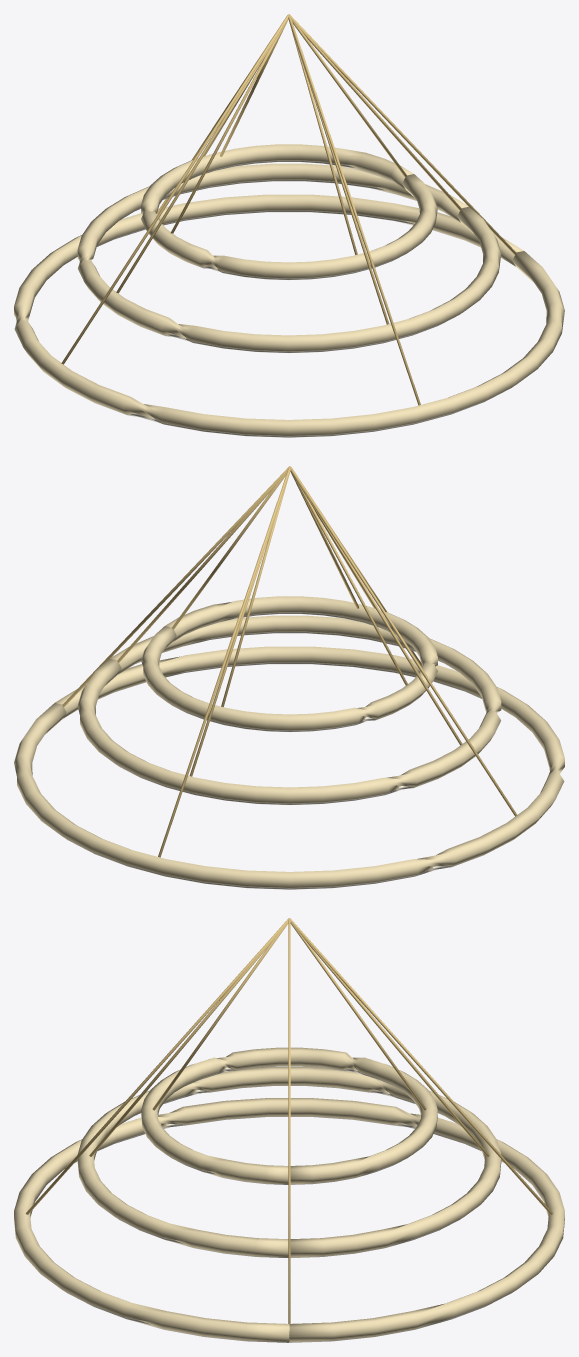
File: suspended-halo.glb
3 views of the same model, one above another, from view 1: azimuth 30°, elevation 25°; view 2: azimuth 150°, elevation 25°; view 3: azimuth 270°, elevation 25° (orthographic).
Parts seen in each view (by area): view 1: halo-rings-0, suspension-2, light-diffuser-1; view 2: halo-rings-0, suspension-2, light-diffuser-1; view 3: halo-rings-0, suspension-2, light-diffuser-1.
Part boxes in pixels (left/top/right/bottom): halo-rings-0: left=14, top=144, right=564, bottom=436; suspension-2: left=61, top=14, right=516, bottom=405; light-diffuser-1: left=64, top=160, right=513, bottom=437; halo-rings-0: left=14, top=596, right=564, bottom=888; suspension-2: left=62, top=466, right=517, bottom=857; light-diffuser-1: left=65, top=612, right=514, bottom=889; halo-rings-0: left=14, top=1047, right=564, bottom=1342; suspension-2: left=25, top=918, right=553, bottom=1332; light-diffuser-1: left=64, top=1066, right=514, bottom=1342.
Bounding box in the file's own units: 2.17 × 1.34 × 2.16.
